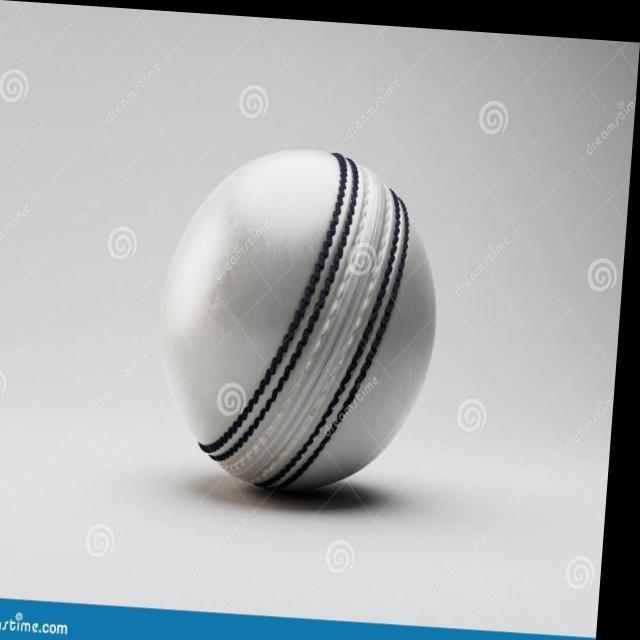cricket ball: (163, 145, 441, 489)
